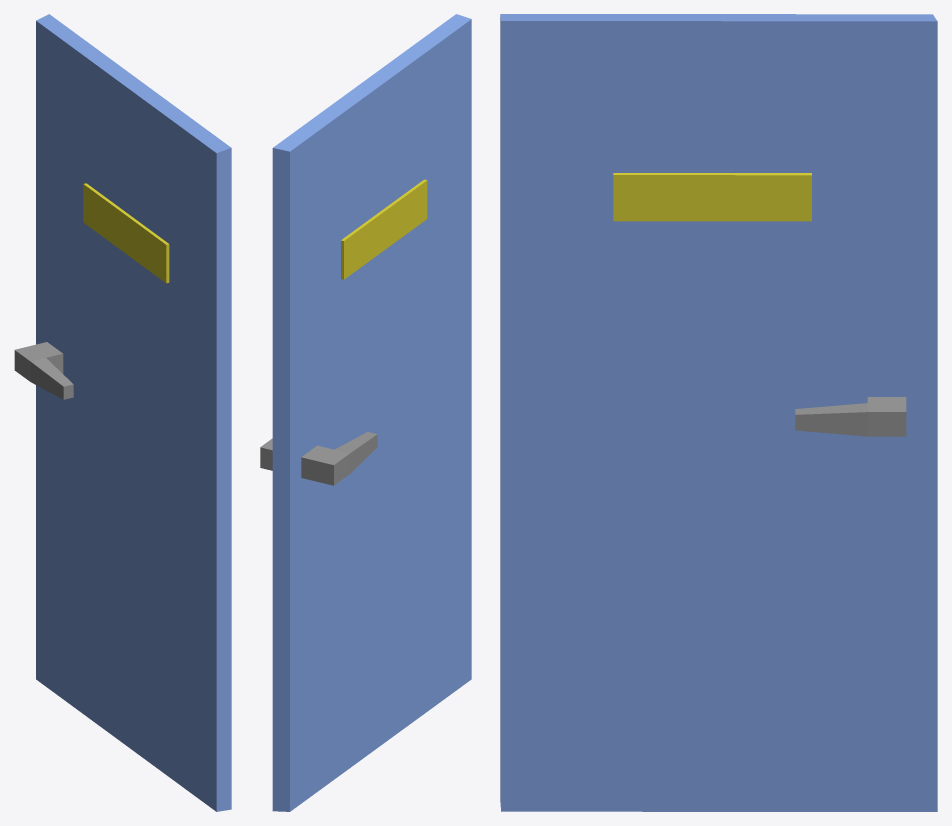
File: justdoorwithhandles.fbx
The picture shows the model from 3 angles, left to right: view 1: azimuth 30°, elevation 25°; view 2: azimuth 150°, elevation 25°; view 3: azimuth 270°, elevation 25°; orthographic projection. The views are drawn at different scales.
Parts seen in each view (by area): view 1: handle; view 2: handle; view 3: handle.
Boxes of the visible parts, x1,y1,x2,y2 form: handle: (14,14,231,811); handle: (260,14,471,811); handle: (500,14,937,811).
Bounding box in the file's own units: 107 × 920 × 461.
